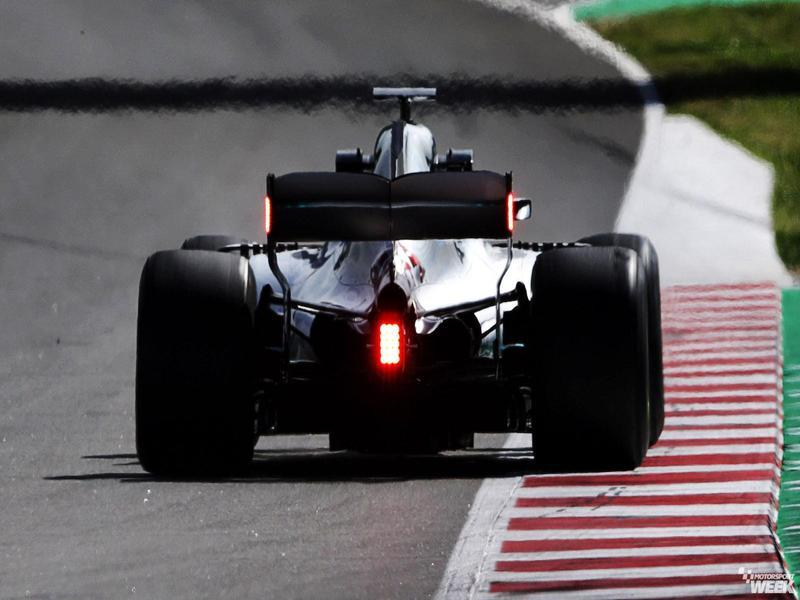f1: (125, 89, 718, 503)
